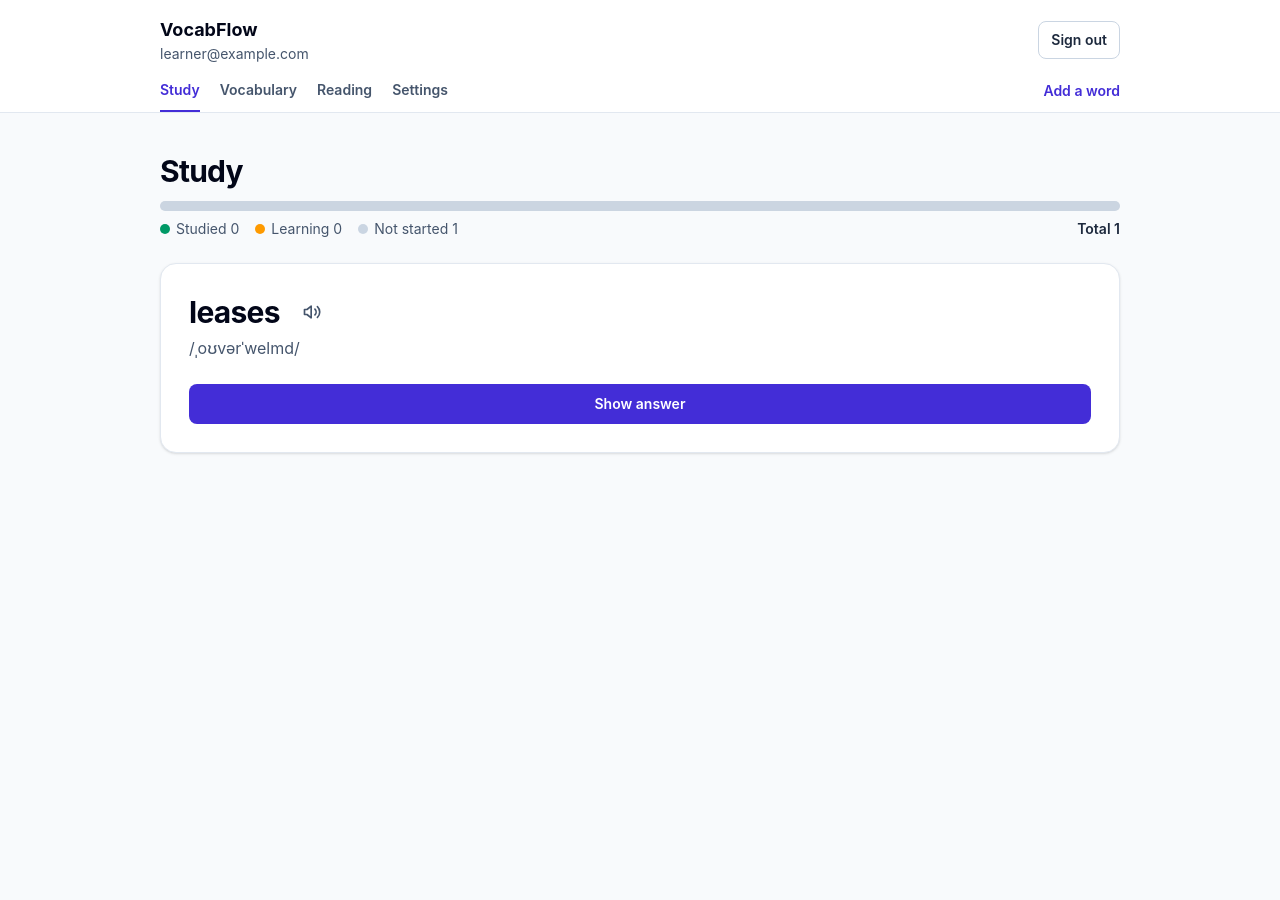
Scenario: a card for an inflected word says which word the meaning belongs to, once the answer is shown
Expected: the heading "leases" is shown, left=189, top=294, right=280, bottom=330
Expected: the text "Form of" is not shown
Click the button "Show answer": (640, 404) left=189, top=384, right=1091, bottom=424
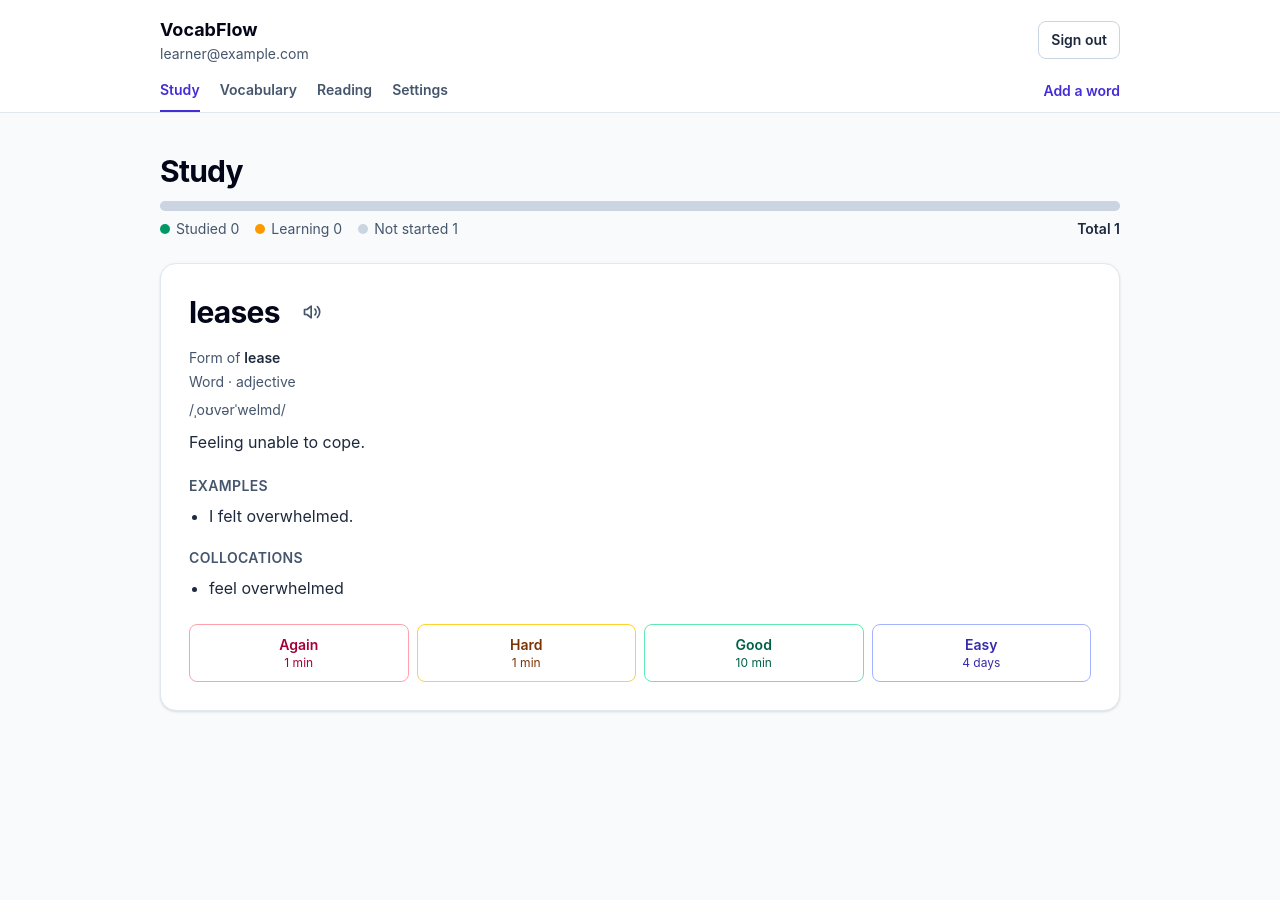
Expected: the text "Form of lease" is shown, left=189, top=349, right=280, bottom=366
